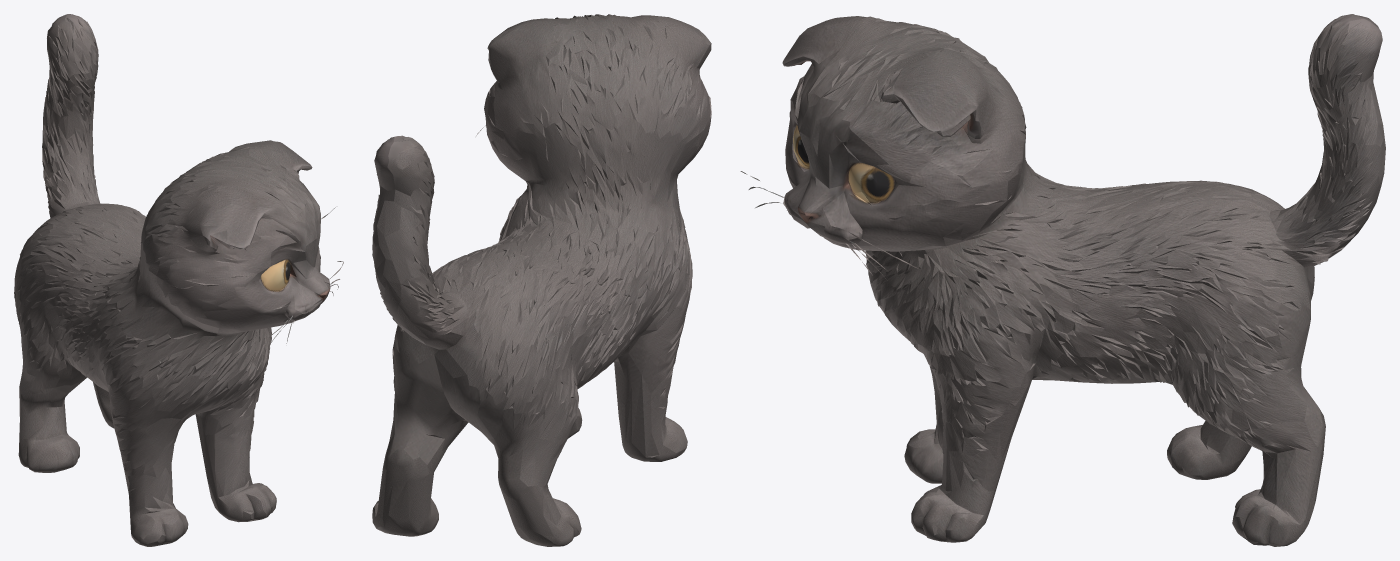
3 renders of one model, left to right at view 1: azimuth 30°, elevation 25°; view 2: azimuth 150°, elevation 25°; view 3: azimuth 270°, elevation 25°, orthographic. The views are drawn at different scales.
Visible parts, largest first — view 1: Mesh_0; view 2: Mesh_0; view 3: Mesh_0.
Boxes of the visible parts, x1,y1,x2,y2 form: Mesh_0: [14, 14, 343, 546]; Mesh_0: [372, 14, 711, 546]; Mesh_0: [740, 14, 1385, 546].
Size of the model in its own units: 0.9083 by 1.61 by 1.89.
1 material, 1 textured.
